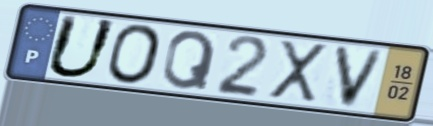2: (215, 33, 272, 100)
O: (105, 22, 165, 87)
Q: (160, 29, 219, 93)
U: (42, 12, 121, 81)
V: (331, 43, 389, 111)
X: (267, 38, 330, 104)
